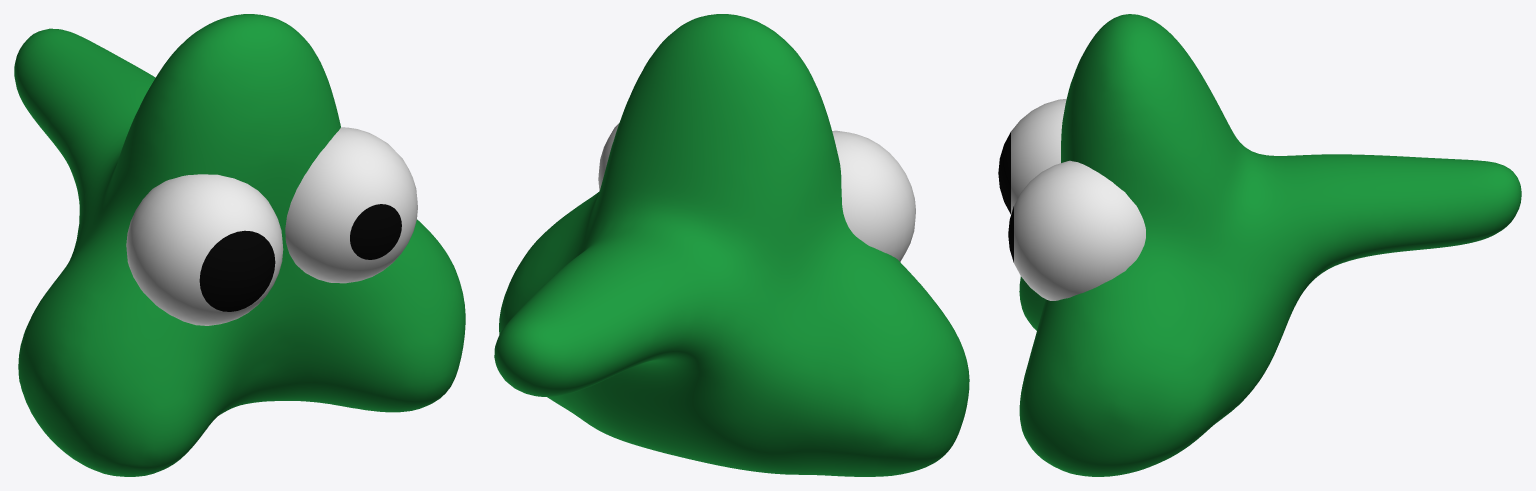
File: funny enemy.fbx
3 renders of one model, left to right at view 1: azimuth 30°, elevation 25°; view 2: azimuth 150°, elevation 25°; view 3: azimuth 270°, elevation 25°, orthographic. The views are drawn at different scales.
Parts seen in each view (by area): view 1: Cube; view 2: Cube; view 3: Cube.
Part boxes in pixels (x1,y1,x2,y2): Cube: [14, 14, 465, 476]; Cube: [494, 14, 969, 476]; Cube: [998, 14, 1521, 476].
Bounding box in the file's own units: 154 × 144 × 178.
